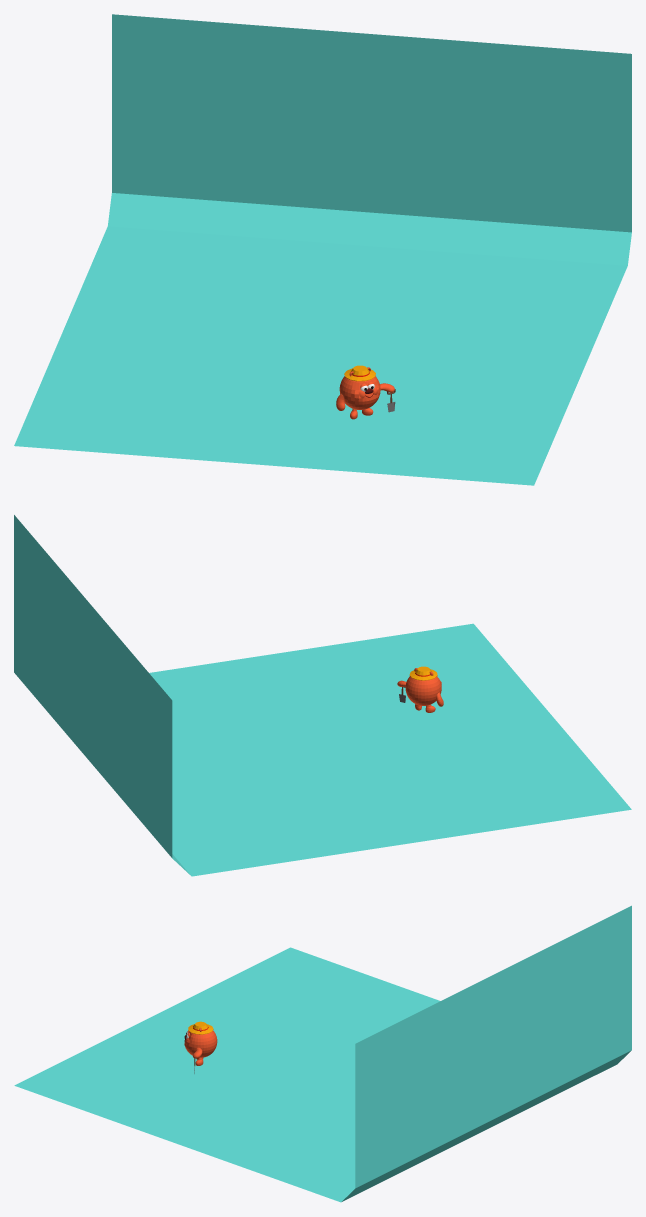
File: kopatuch.glb
3 renders of one model, top to bottom at view 1: azimuth 30°, elevation 25°; view 2: azimuth 150°, elevation 25°; view 3: azimuth 270°, elevation 25°, orthographic. The views are drawn at different scales.
Parts seen in each view (by area): view 1: Плоскость, sfera; view 2: Плоскость, sfera; view 3: Плоскость, sfera.
Part boxes in pixels (<box>): Плоскость: <box>14,14,631,485</box>; sfera: <box>339,376,380,409</box>; Плоскость: <box>14,515,631,876</box>; sfera: <box>405,676,441,705</box>; Плоскость: <box>14,905,631,1202</box>; sfera: <box>184,1030,217,1057</box>.
Bounding box in the file's own units: 46.53 × 13.68 × 46.7.
